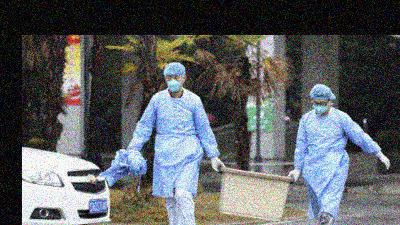with_mask: (165, 74, 182, 92), (311, 100, 329, 115)
